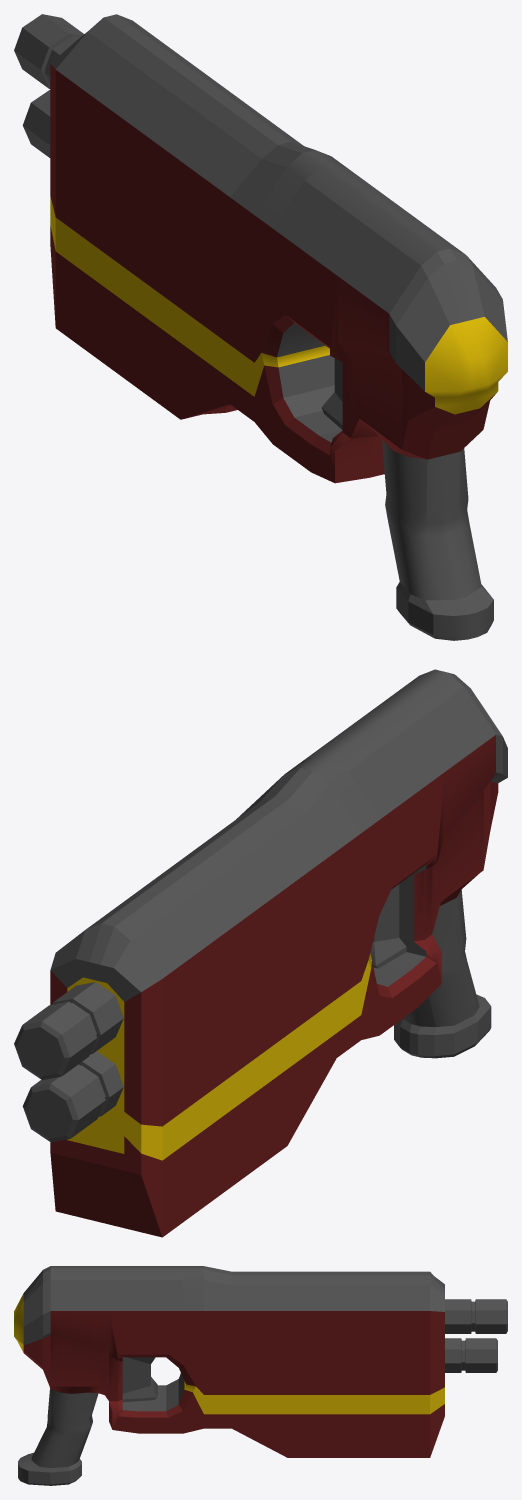
The model's file is DoubleBarrelPistol.fbx.
3 renders of one model, top to bottom at view 1: azimuth 30°, elevation 25°; view 2: azimuth 150°, elevation 25°; view 3: azimuth 270°, elevation 25°, orthographic. The views are drawn at different scales.
Parts seen in each view (by area): view 1: polySurface27; view 2: polySurface27; view 3: polySurface27.
Boxes of the visible parts, x1,y1,x2,y2 form: polySurface27: (14,14,507,640); polySurface27: (14,669,507,1237); polySurface27: (14,1266,507,1485).
Size of the model in its own units: 0.5099 by 1.67 by 3.59.
